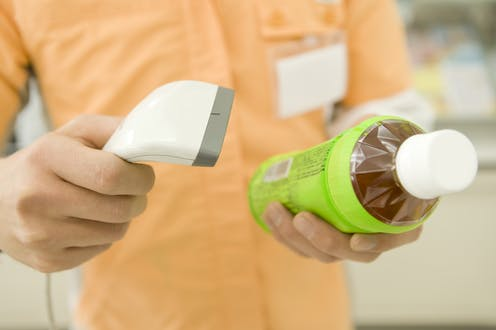plastic_bottle: (235, 79, 486, 306)
